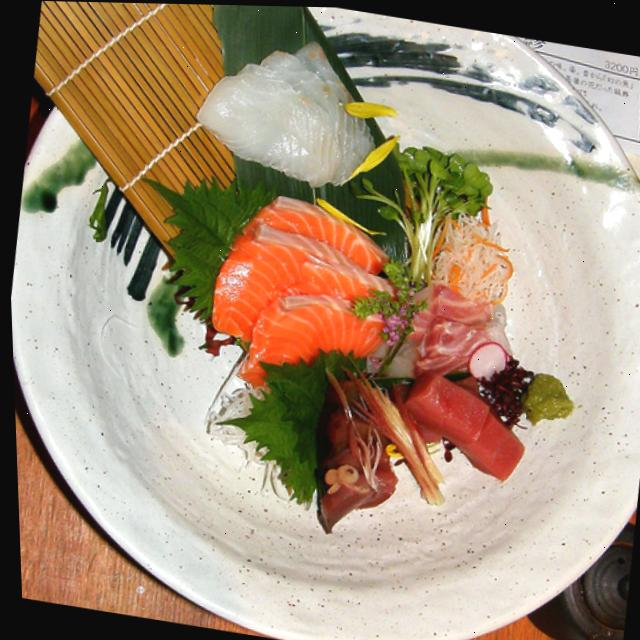刺身生食: (88, 2, 640, 624)
